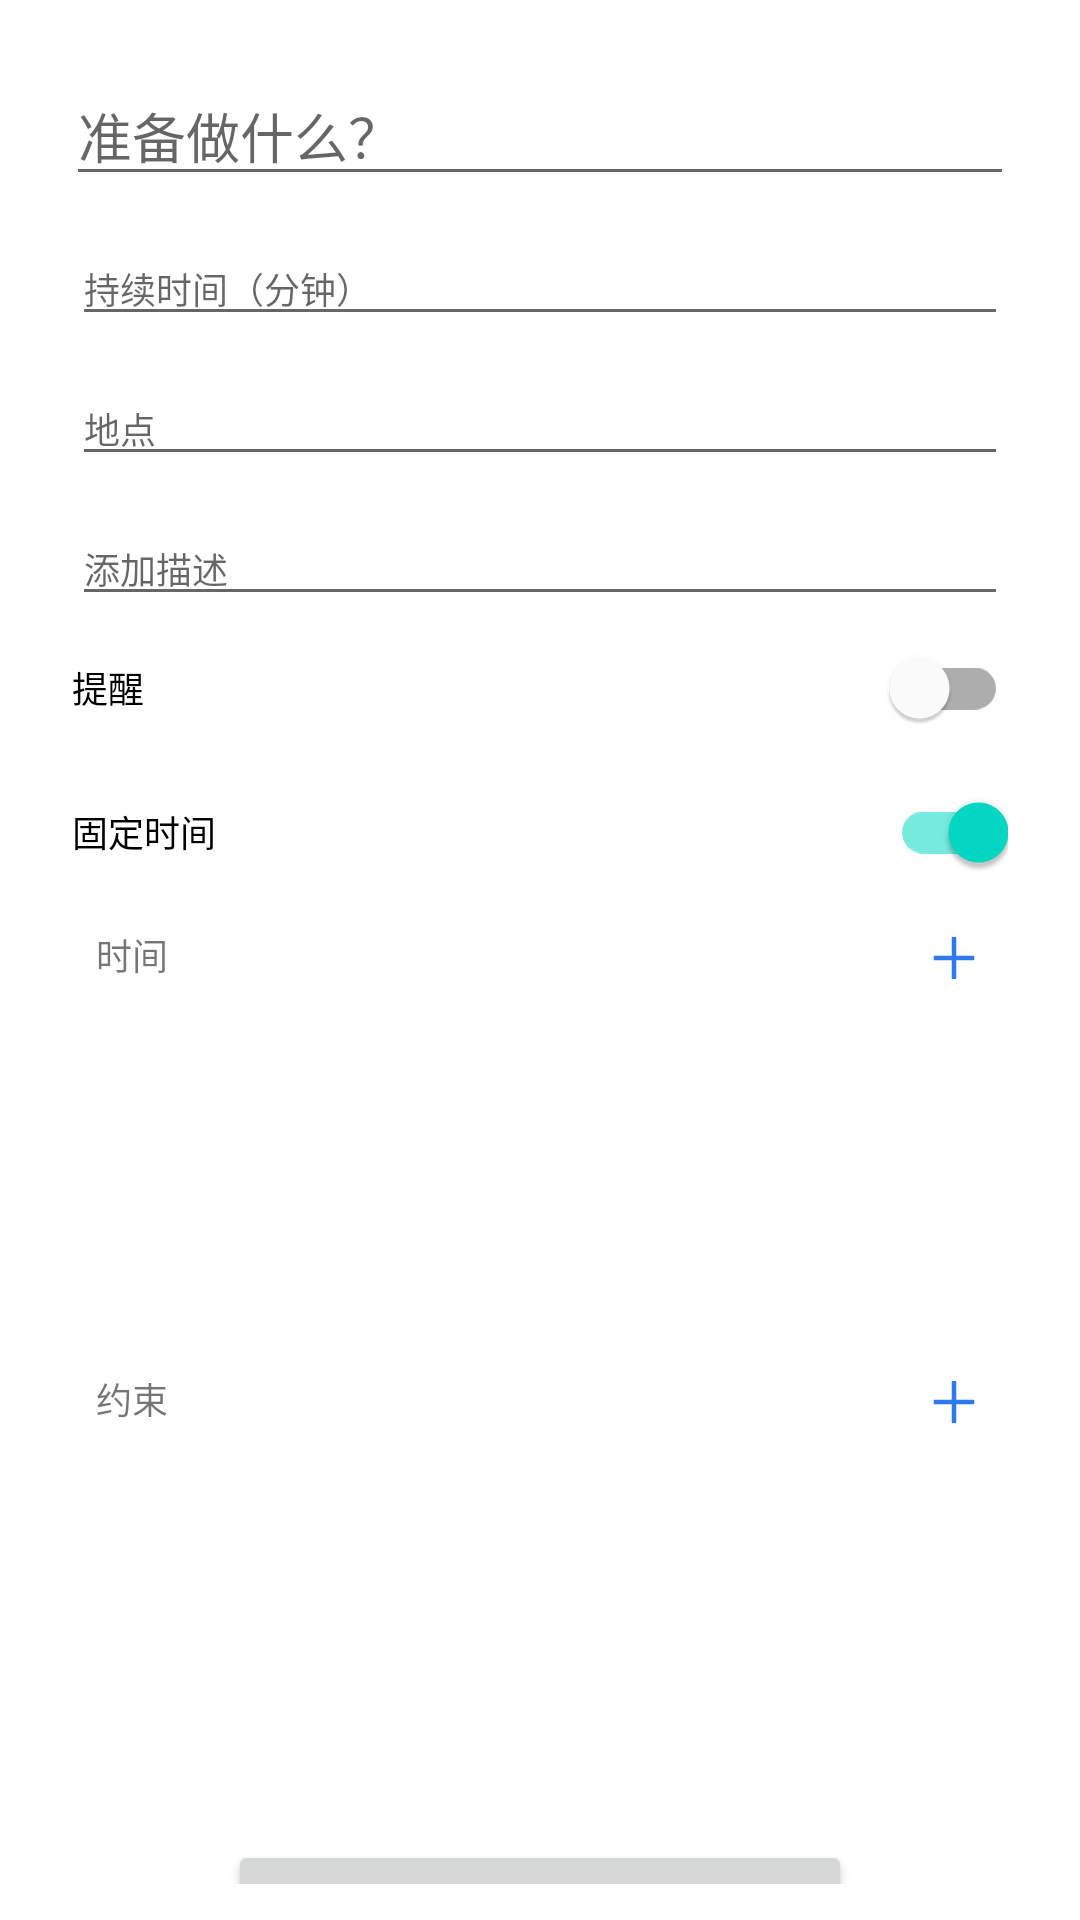

Icon bounding boxes for this 1080*1920 phone screenshot, format (x1, y1, x2, y2):
add event: (933, 937, 975, 979), (933, 1381, 975, 1423)
